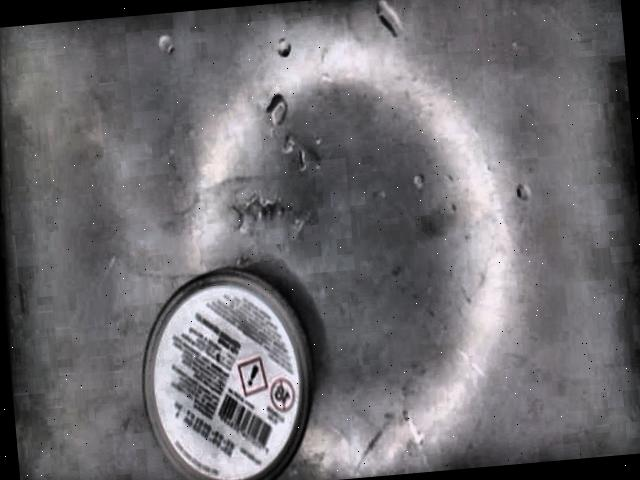Plastic: (145, 267, 311, 480)
